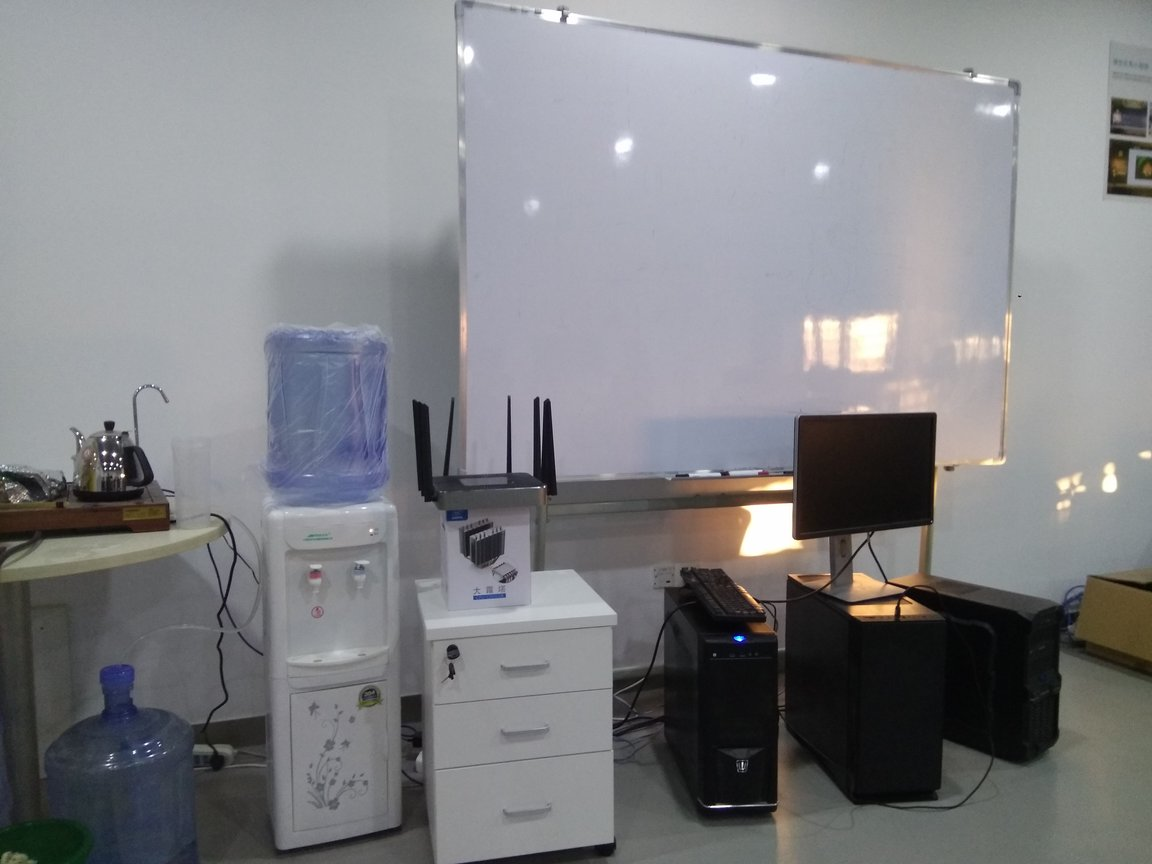computer: (784, 568, 956, 812), (895, 572, 1070, 771), (662, 587, 786, 823)
drawer chest: (407, 575, 622, 864)
monitor: (780, 409, 940, 616)
scuttlebutt: (54, 658, 206, 864), (257, 318, 399, 508)
water dispenser: (257, 483, 408, 853)
